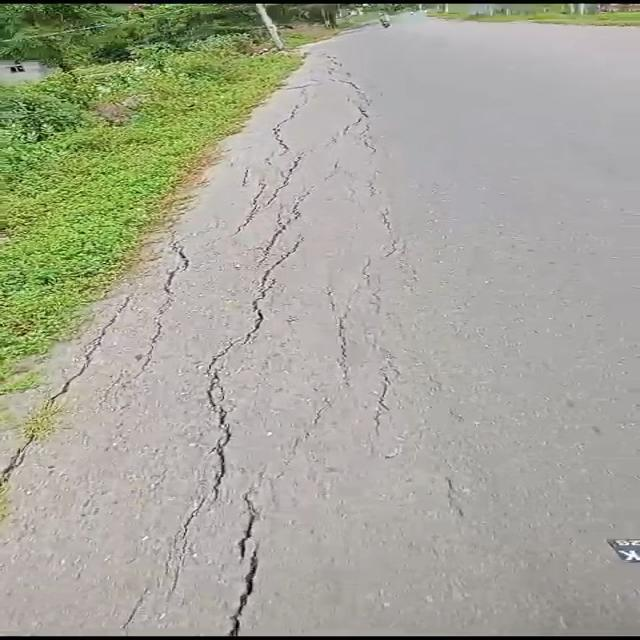Memanjang: (166, 178, 317, 538), (208, 469, 274, 640)
